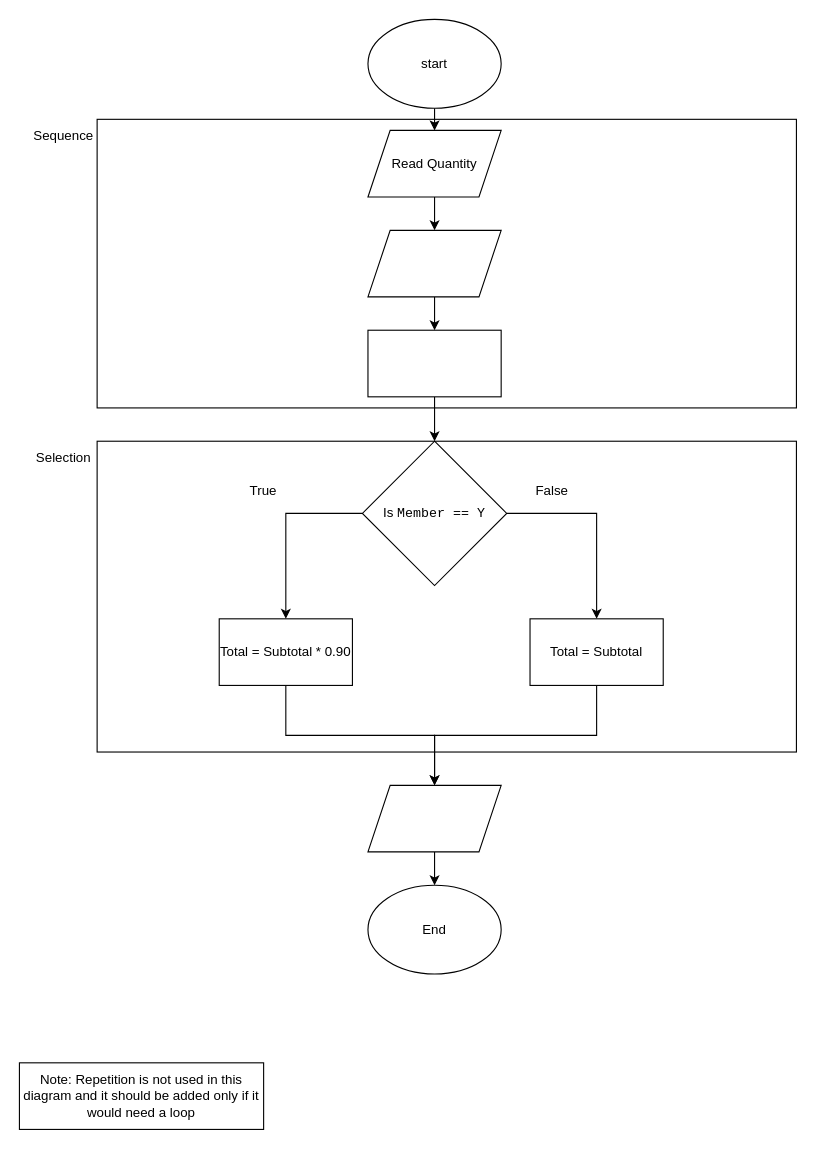
Some shapes in this 816 by 1149 pixel diagram are drawn without their labels. The box of each missing label's shape, as (x1, y1, x2, y2) in pixels:
Display Total: (367, 784, 501, 852)
Read Member (Y/N): (367, 229, 501, 297)
Subtotal = Quantity * 4.50: (367, 329, 501, 397)
